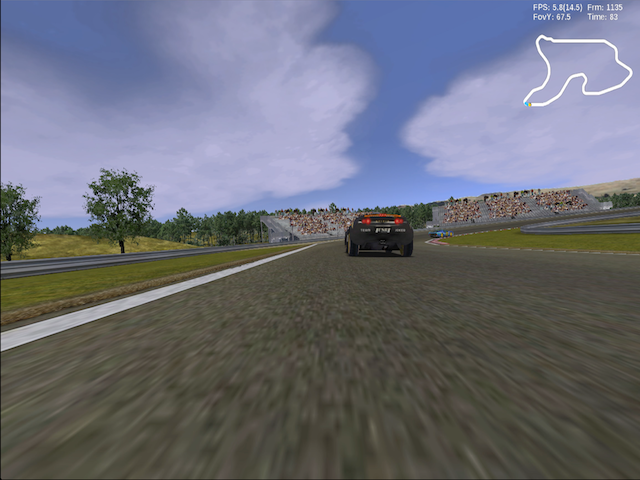Lynx220: (429, 230, 454, 239)
Spirit300: (345, 214, 414, 257)
